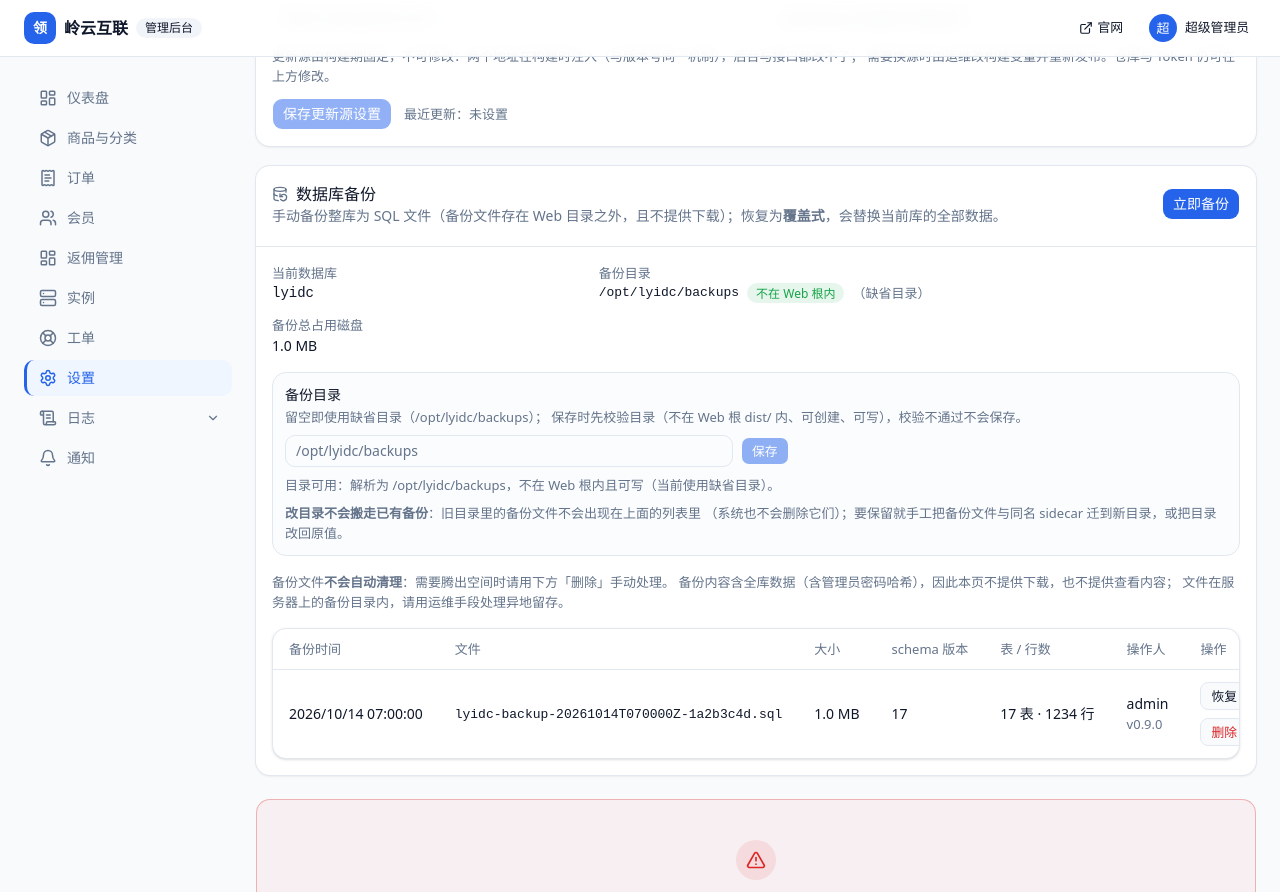
管理后台 · 数据库备份（R14，契约 21） › 保存被拒（Web 根内 40002）：展示后端原因、输入保留、不谎报成功
(page scrolled)
Expected: the element with test id "db-backups-panel" is shown, [256,166,1256,775]
Type "/opt/lyidc/dist/bk" into the field named "备份目录" at (509, 451), box [285,435,733,467]
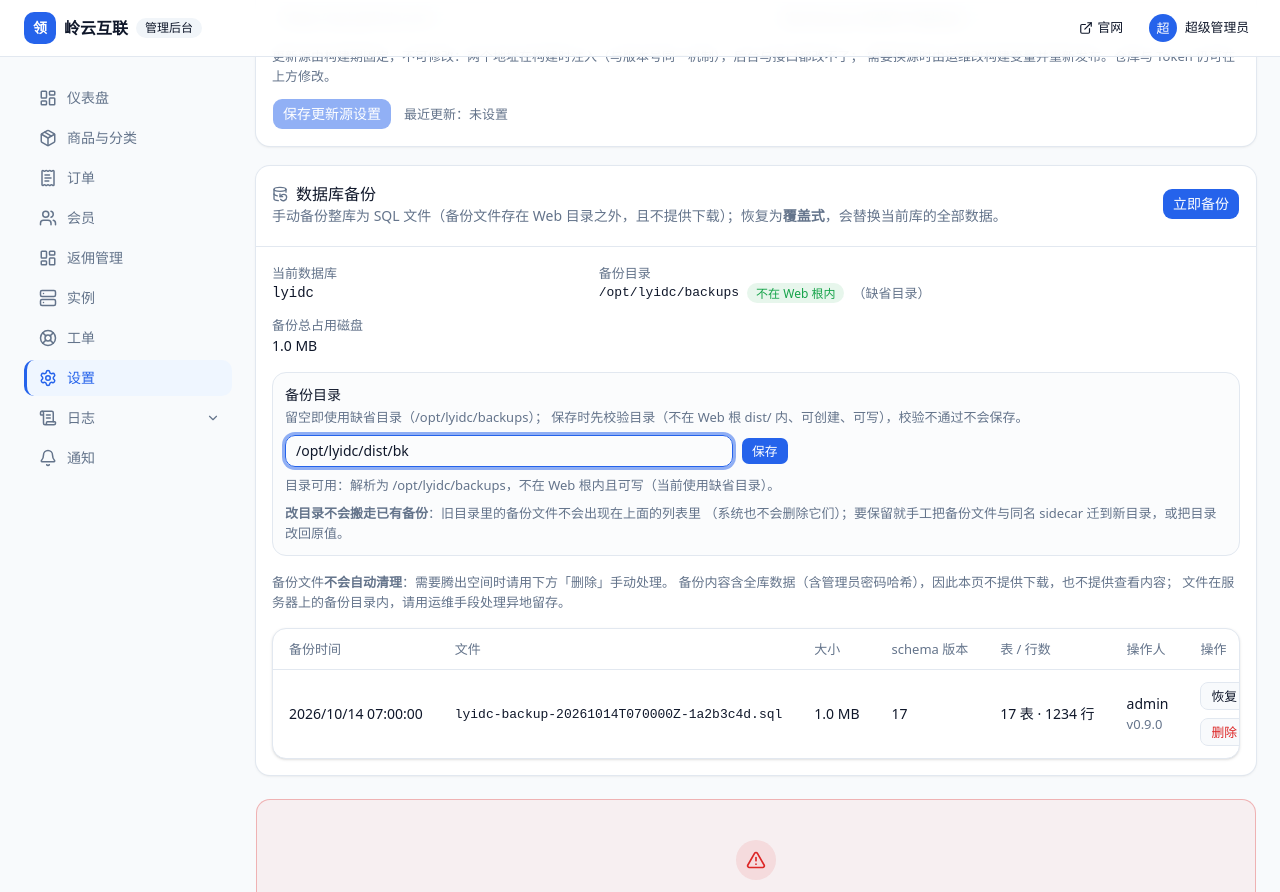
Click the button with test id "db-backup-dir-save" at (765, 451), box [741,437,789,465]
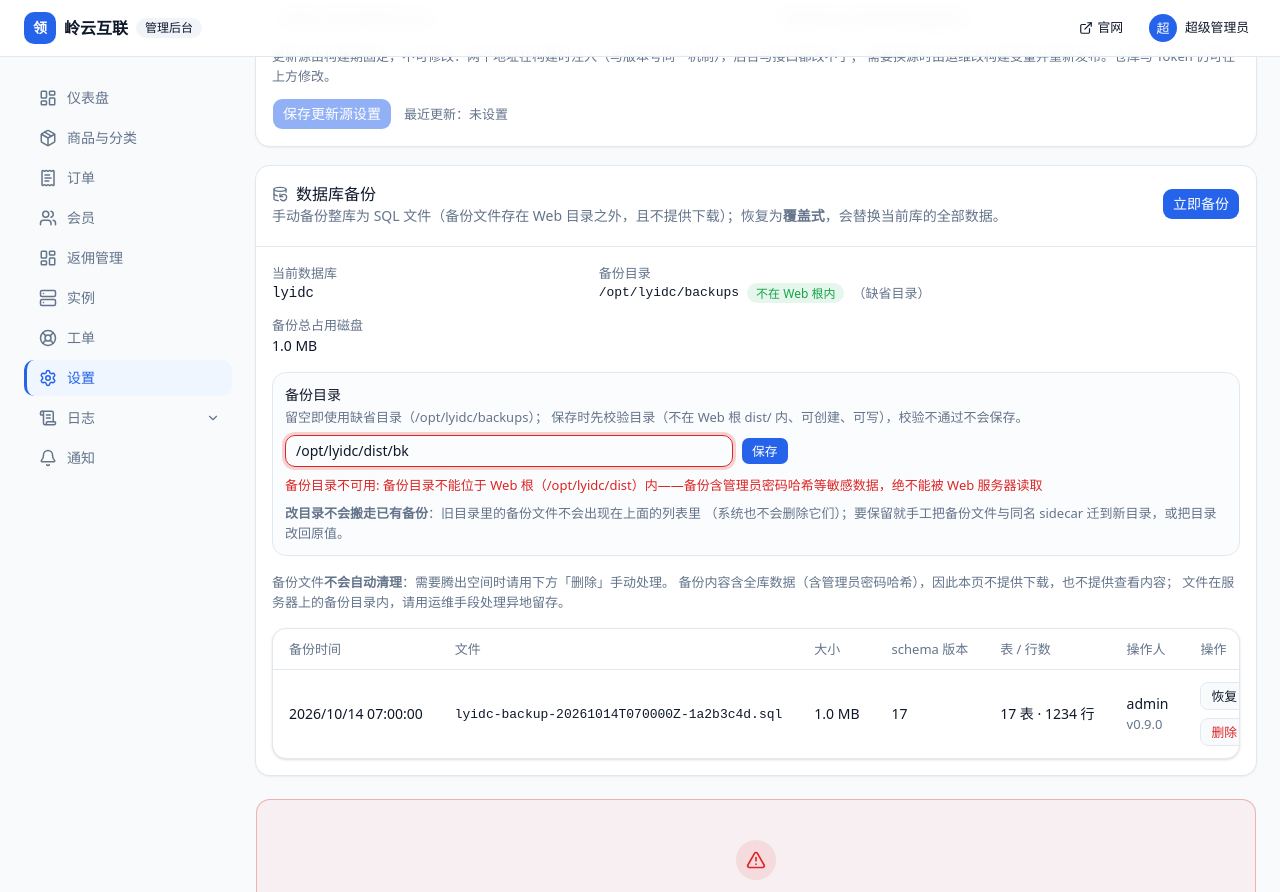
Expected: the text "不能位于 Web 根" is shown, [285,476,1043,494]
